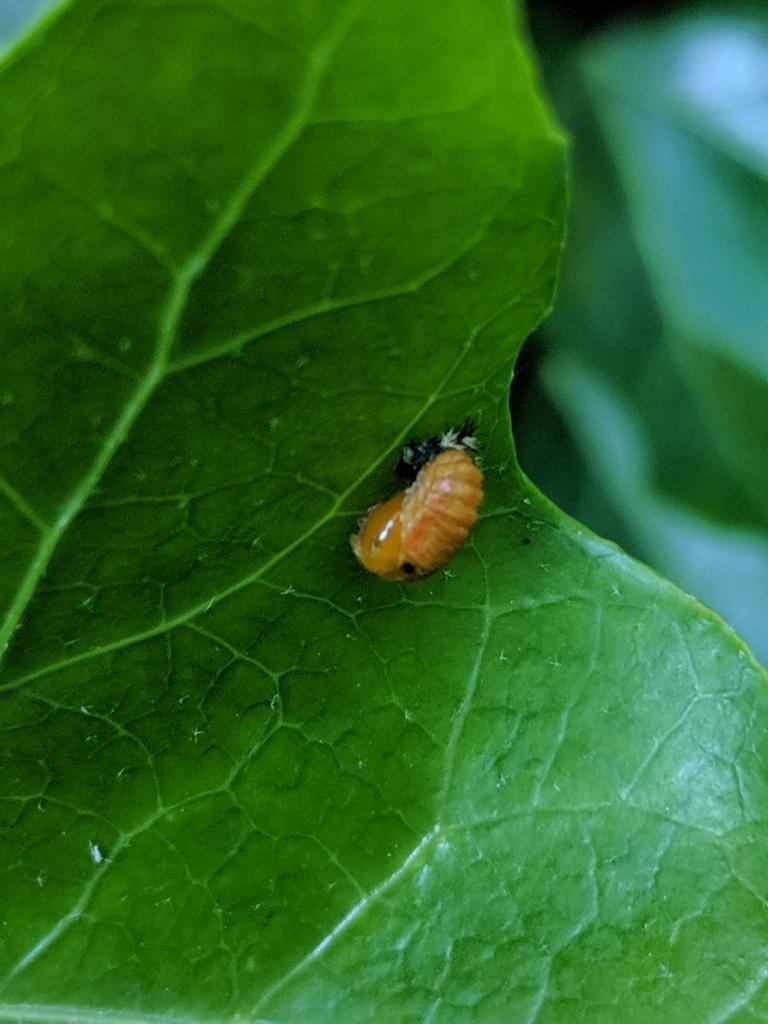ladybug: (349, 414, 491, 586)
